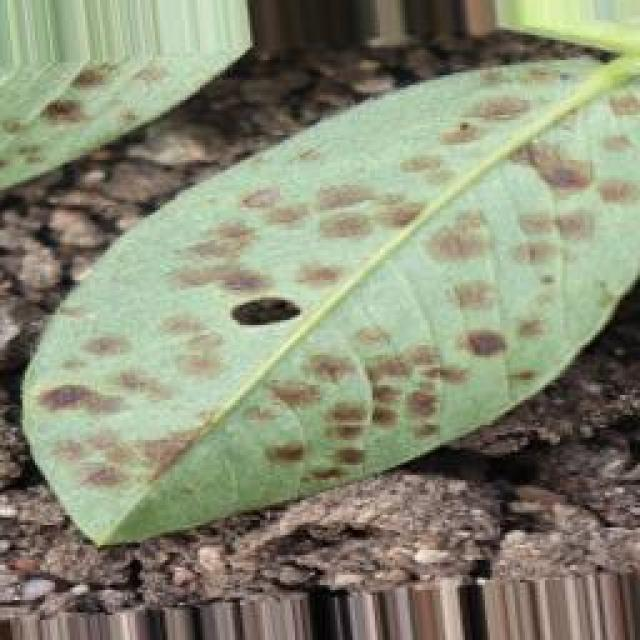Whitefly: (0, 32, 630, 542)
